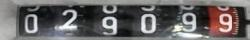digits: (57, 9, 78, 30), (181, 12, 197, 32), (140, 13, 156, 33), (101, 16, 117, 35), (24, 13, 38, 33), (218, 13, 232, 32)
